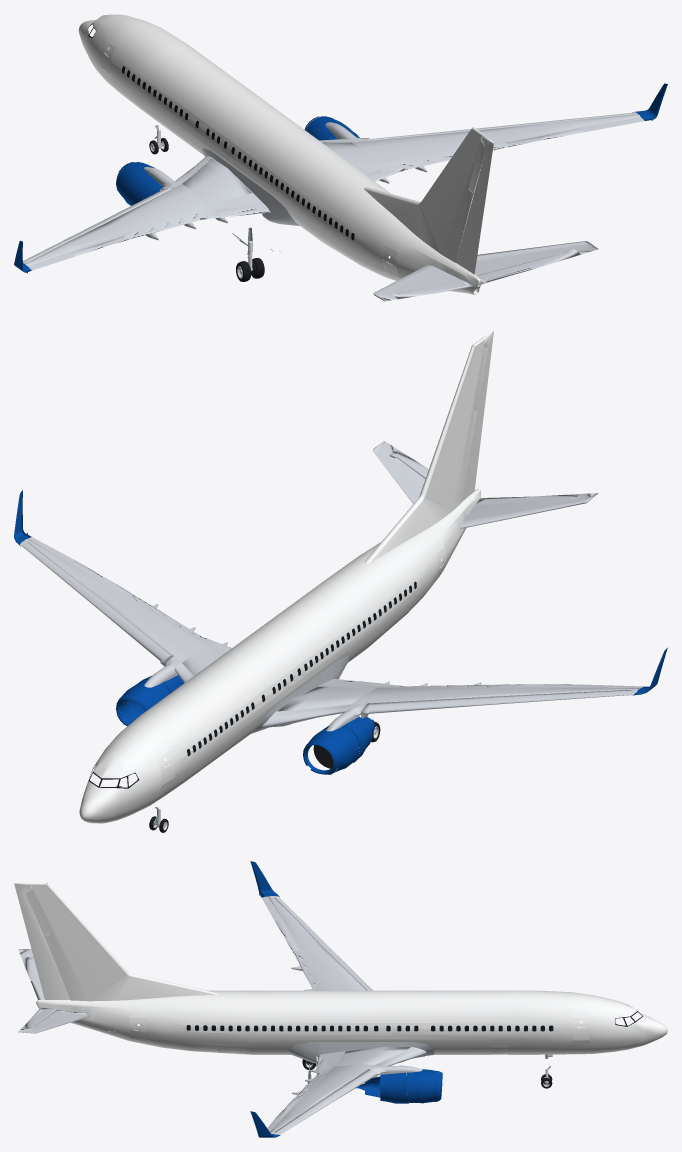
3 renders of one model, top to bottom at view 1: azimuth 30°, elevation 25°; view 2: azimuth 150°, elevation 25°; view 3: azimuth 270°, elevation 25°, orthographic. The views are drawn at different scales.
Parts seen in each view (by area): view 1: FuselageBody, Wing_Fixed_L, Wing_Fixed_R, VerticalFin, HorizontalStabilizers, Rudder, EngineNacelle_L, FuselageWindows, Elevator_R, Spoilers_L, Winglets, EngineNacelle_R (+4 smaller); view 2: FuselageBody, Wing_Fixed_L, Wing_Fixed_R, VerticalFin, HorizontalStabilizers, EngineNacelle_L, EngineNacelle_R, Rudder, FuselageWindows; view 3: FuselageBody, VerticalFin, Wing_Fixed_R, Wing_Fixed_L, EngineNacelle_R, Rudder, FuselageWindows, HorizontalStabilizers, Winglets, Elevator_L.
Boxes of the visible parts, bbox=[...] form: FuselageBody: bbox=[78, 14, 480, 294]; Wing_Fixed_L: bbox=[23, 148, 299, 270]; Wing_Fixed_R: bbox=[319, 112, 644, 183]; VerticalFin: bbox=[364, 127, 493, 262]; HorizontalStabilizers: bbox=[373, 241, 598, 301]; Rudder: bbox=[455, 137, 493, 274]; EngineNacelle_L: bbox=[116, 162, 163, 205]; FuselageWindows: bbox=[88, 23, 354, 240]; Elevator_R: bbox=[477, 249, 580, 284]; Spoilers_L: bbox=[122, 206, 257, 237]; Winglets: bbox=[14, 83, 667, 273]; EngineNacelle_R: bbox=[304, 116, 359, 142]; FuselageBody: bbox=[79, 489, 481, 823]; Wing_Fixed_L: bbox=[251, 655, 644, 733]; Wing_Fixed_R: bbox=[19, 537, 227, 687]; VerticalFin: bbox=[364, 330, 493, 563]; HorizontalStabilizers: bbox=[373, 441, 597, 528]; EngineNacelle_L: bbox=[303, 717, 374, 774]; EngineNacelle_R: bbox=[116, 675, 183, 726]; Rudder: bbox=[461, 332, 493, 502]; FuselageWindows: bbox=[89, 581, 416, 788]; FuselageBody: bbox=[36, 990, 667, 1054]; VerticalFin: bbox=[14, 883, 217, 1001]; Wing_Fixed_R: bbox=[267, 1042, 434, 1135]; Wing_Fixed_L: bbox=[262, 896, 372, 990]; EngineNacelle_R: bbox=[356, 1069, 442, 1103]; Rudder: bbox=[14, 884, 70, 999]; FuselageWindows: bbox=[186, 1011, 642, 1031]; HorizontalStabilizers: bbox=[18, 949, 91, 1033]; Winglets: bbox=[250, 861, 279, 1137]; Elevator_L: bbox=[21, 957, 44, 999].
Bounding box in the file's own units: 35.69 × 13.73 × 39.42.
